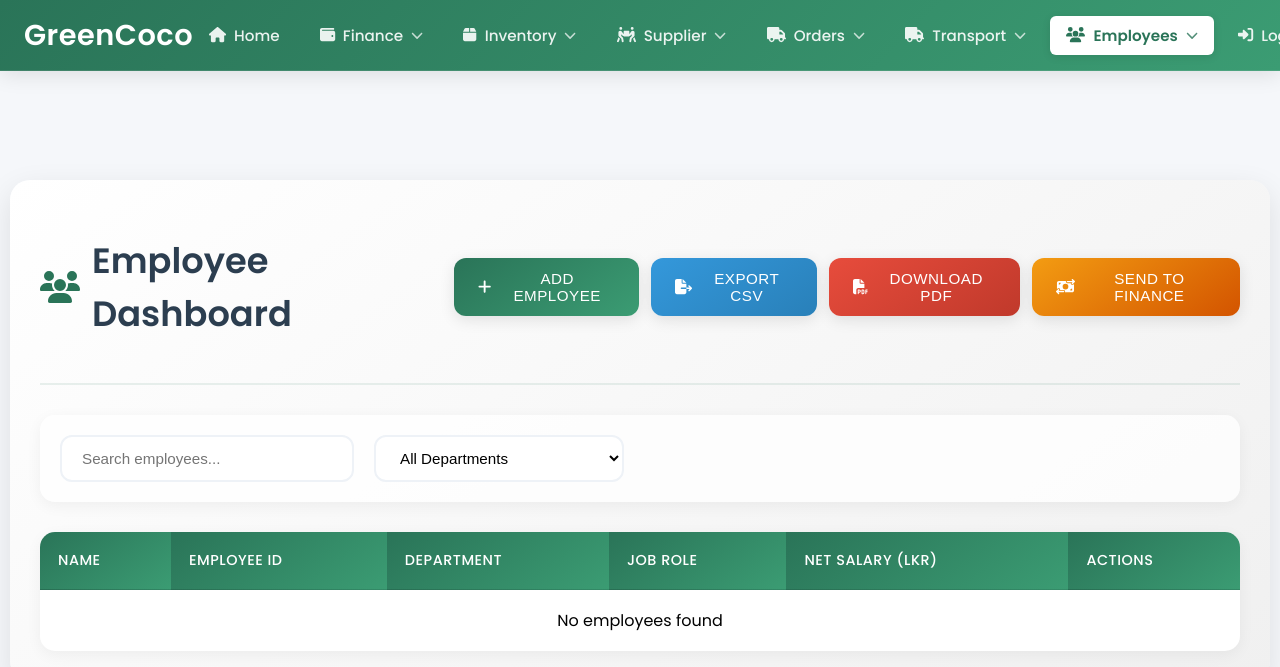
Test: Add Employee Form › should validate required fields
Click the button "Add Employee" at coordinates (547, 287), box [454, 258, 639, 316]
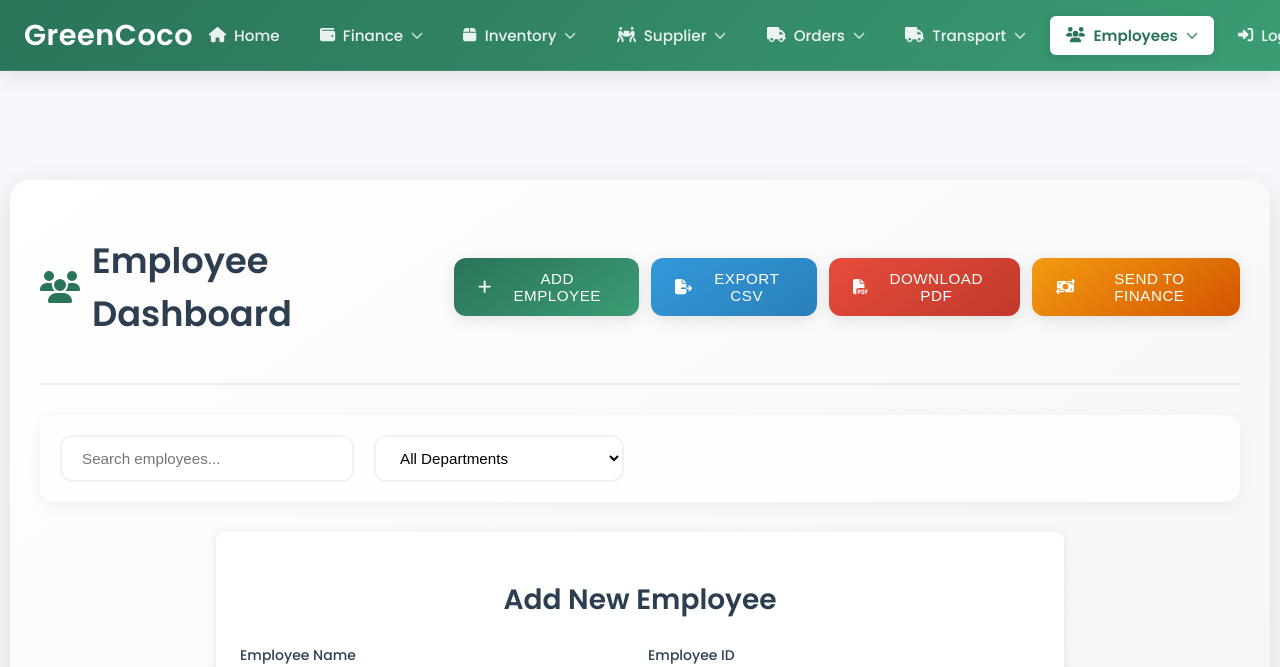
Scroll
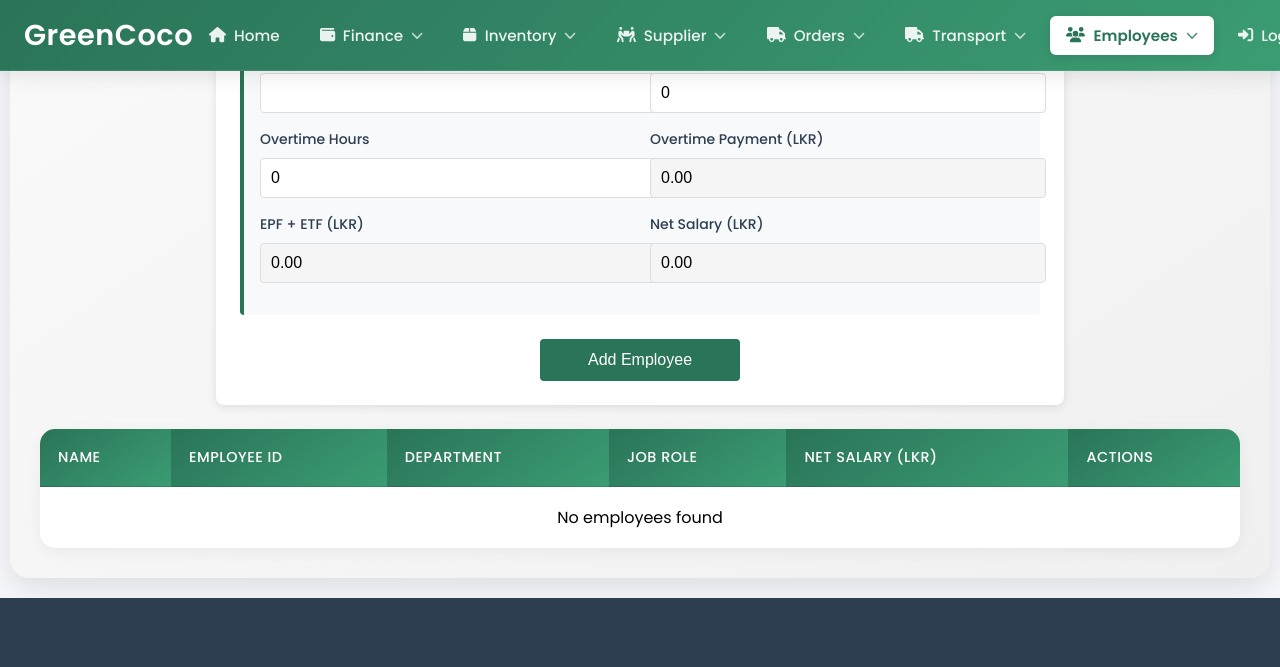
Click the button with class "submit-button" at coordinates (640, 360), box [540, 339, 740, 381]
(page scrolled)
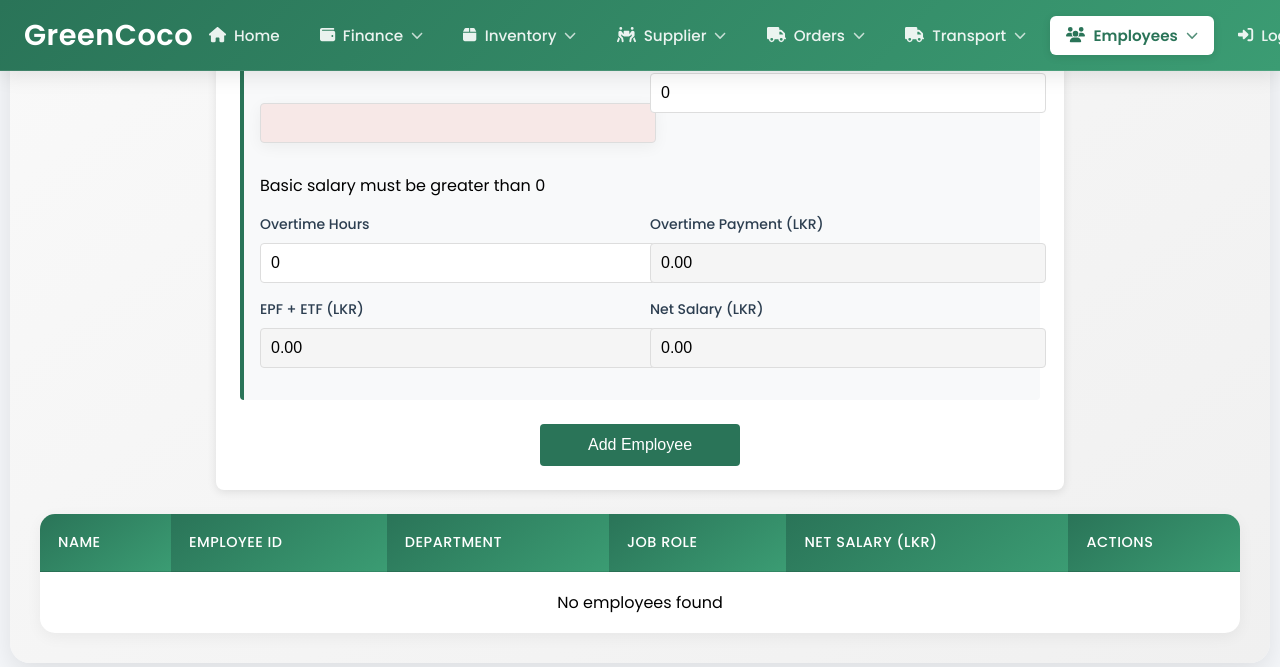
Check: the text "Basic salary must be greater than 0" is shown, box [260, 174, 545, 197]
